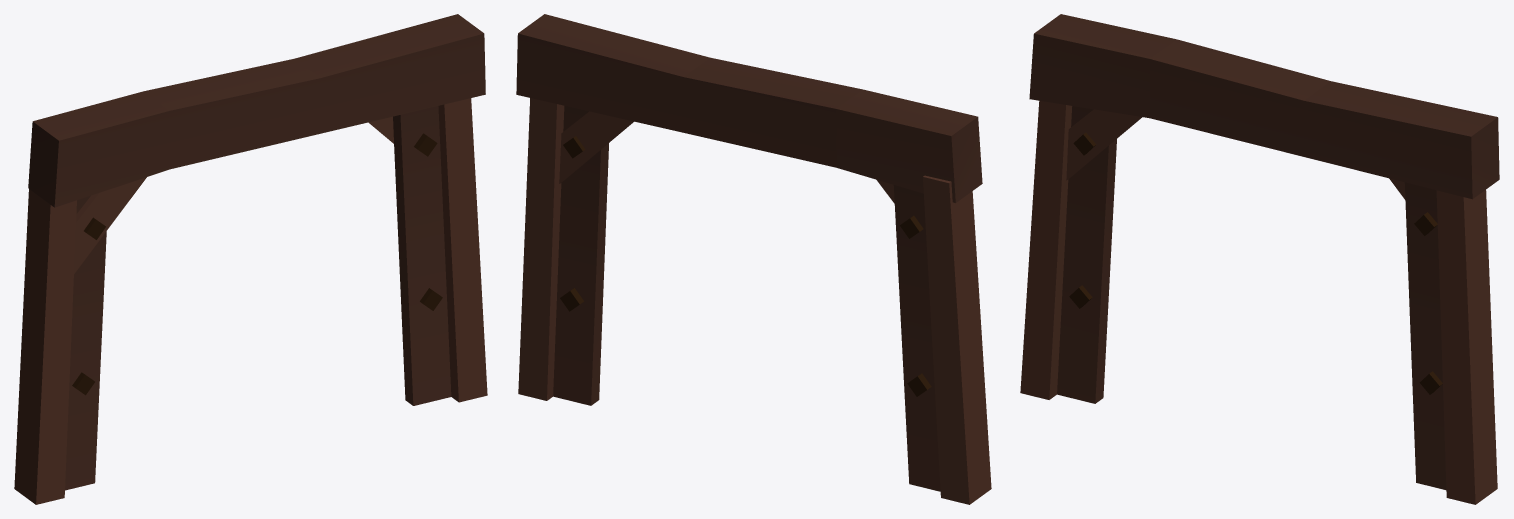
The model's file is Beam Interior 1.glb.
The picture shows the model from 3 angles, left to right: view 1: azimuth 30°, elevation 25°; view 2: azimuth 150°, elevation 25°; view 3: azimuth 330°, elevation 25°; orthographic projection.
Parts seen in each view (by area): view 1: Beam Interior 1; view 2: Beam Interior 1; view 3: Beam Interior 1.
Boxes of the visible parts, bbox=[...] form: Beam Interior 1: bbox=[14, 14, 487, 504]; Beam Interior 1: bbox=[516, 14, 991, 504]; Beam Interior 1: bbox=[1020, 14, 1499, 504].
Size of what is drawn, in the model's own units: 4.19 by 3.23 by 0.4819.
Materials: 1 (1 with a texture image).
